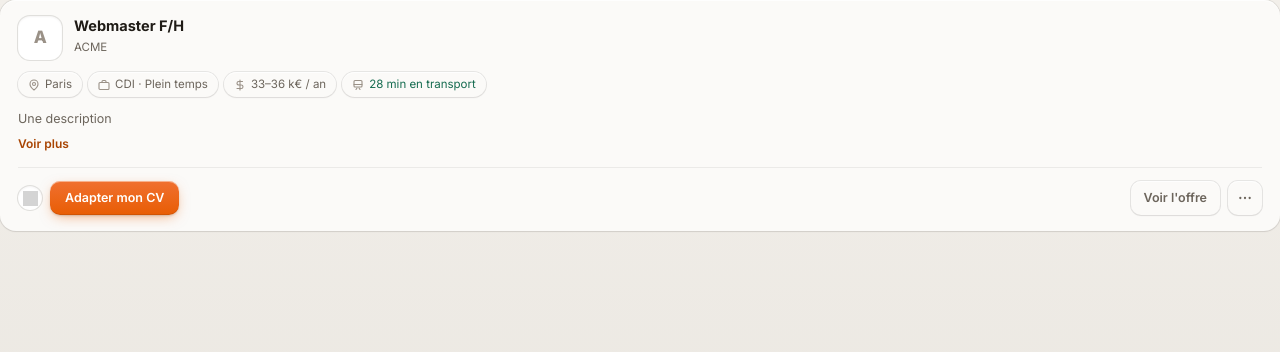
Scenario: JobCard › marque une offre déjà suivie
The image size is (1280, 352).
Step 1. Click the button with test id "job-menu-toggle" → (1245, 198), box [1228,181,1262,215]
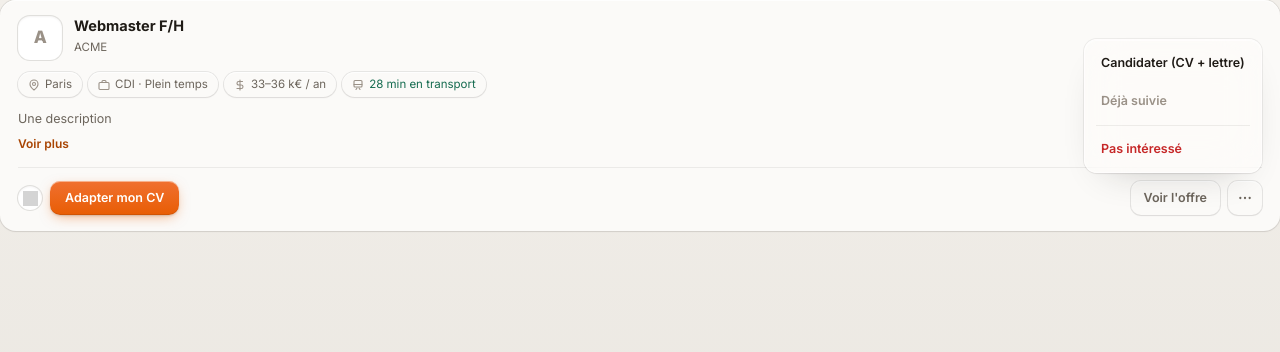
Now the button with test id "job-track" is disabled, box [1090,83,1256,120]
